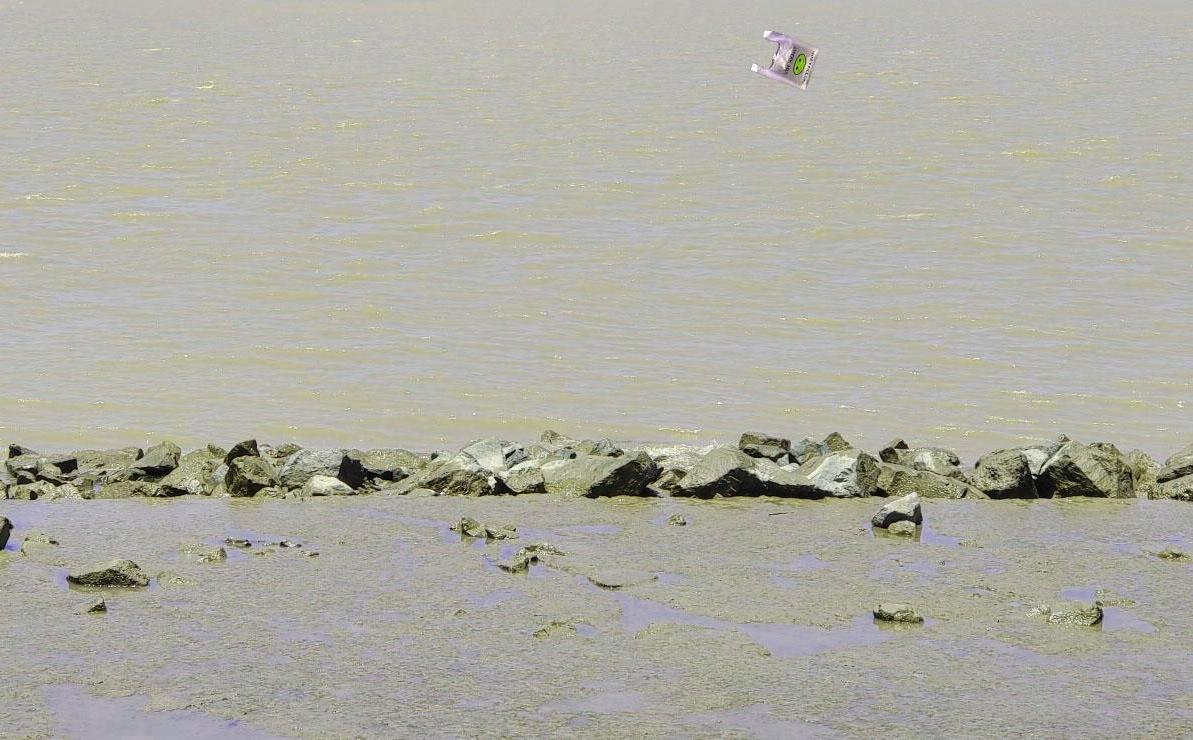Trash: (747, 21, 819, 95)
